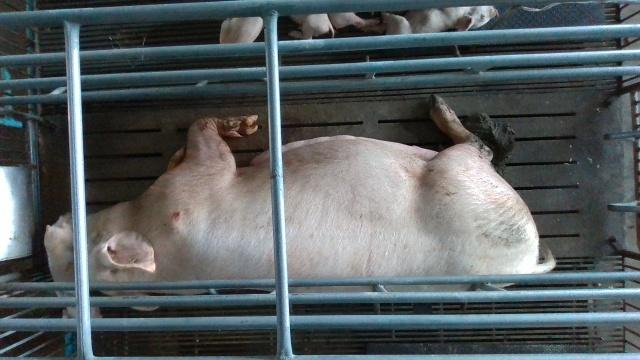piglet: (45, 221, 102, 319), (380, 6, 500, 35)
sow-sleep: (46, 94, 556, 317)
